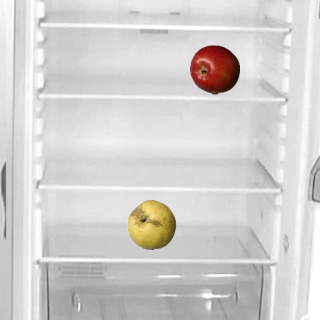Apple Braeburn: (189, 44, 239, 94)
Apple Golden 1: (126, 199, 176, 249)
